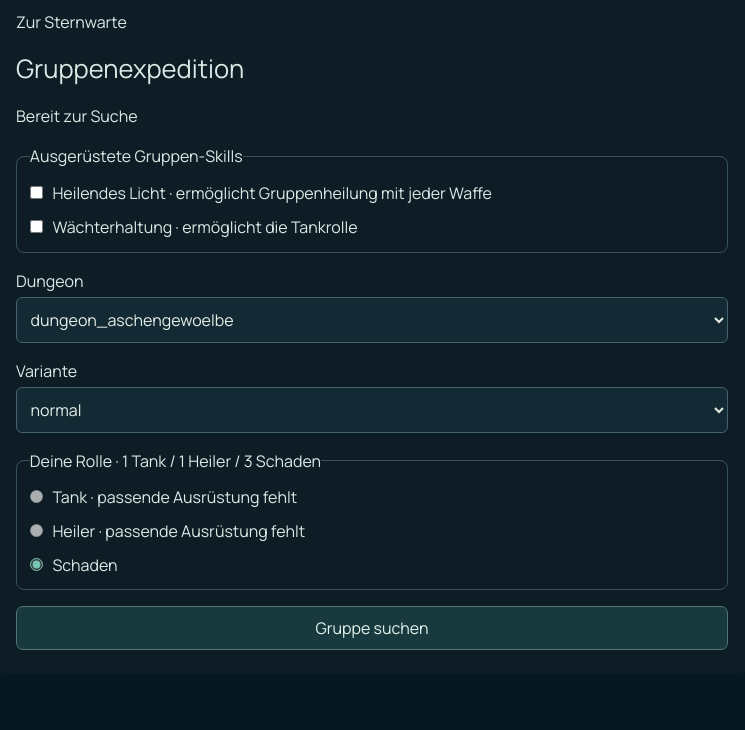
Scenario: AIM-259 confirmed group UI › suppresses duplicate clicks, performs a readback after a lost response and never invents a party
Click the button "Gruppe suchen". click: click(372, 628)
box: [16,606,728,650]
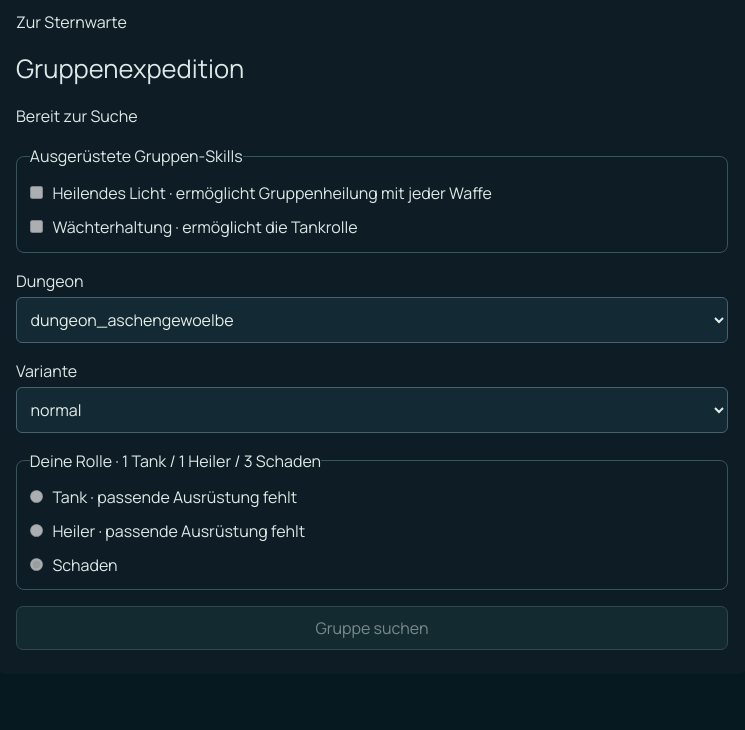
Click the button "Gruppe suchen". click: click(372, 628)
box: [16,606,728,650]
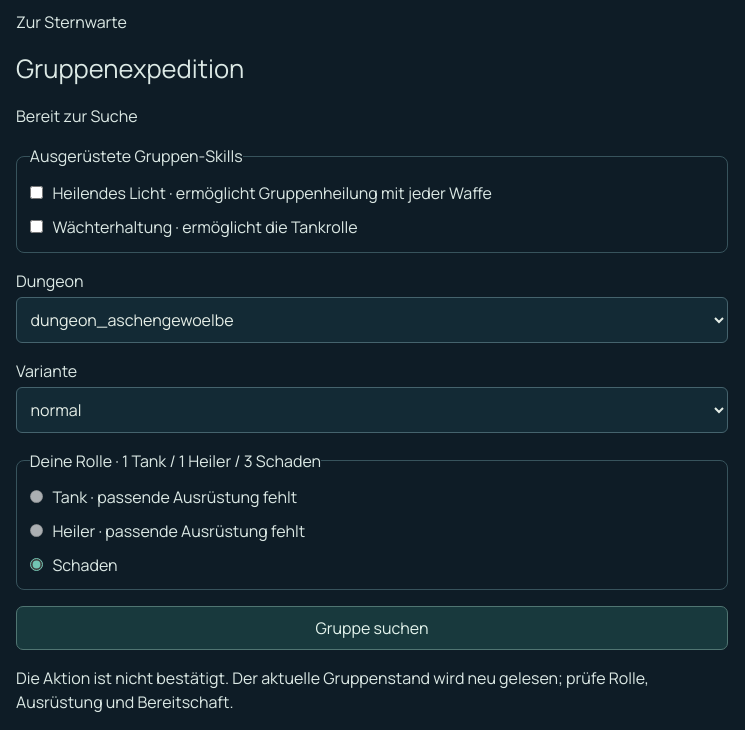
Expected: the text "Die Aktion ist nicht bestätigt" is shown, [16,667,649,713]
